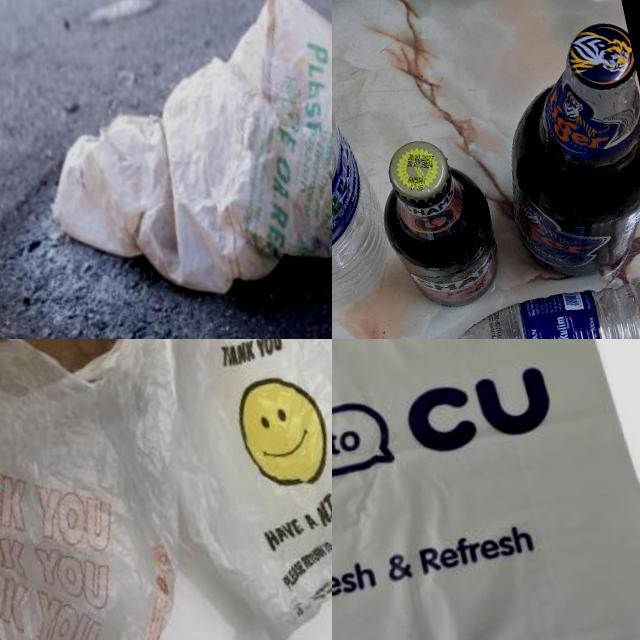garrafa de vidro: (478, 17, 640, 290), (368, 128, 509, 320)
garrafa plástica: (332, 18, 398, 335), (429, 266, 640, 339)
sacola plástica: (25, 0, 332, 339), (332, 339, 640, 640), (0, 339, 245, 640), (131, 339, 332, 640)
